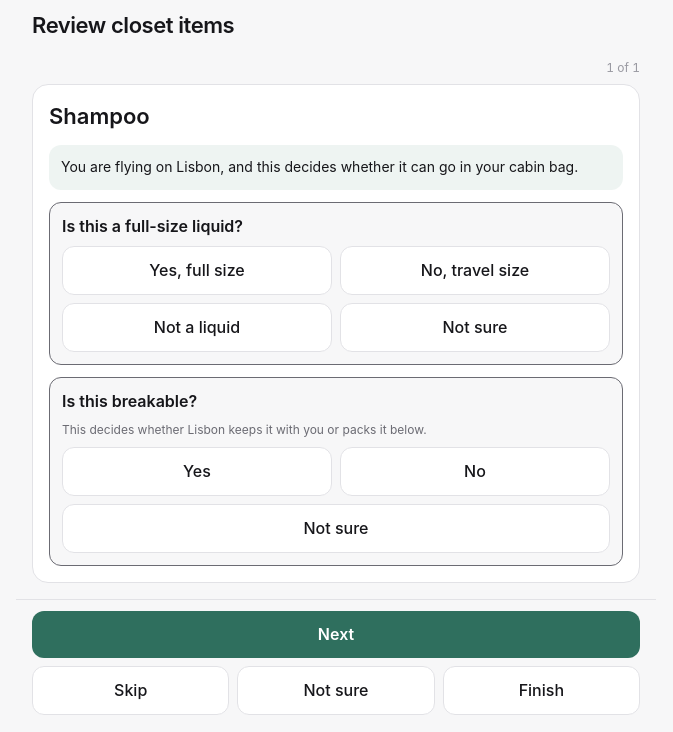
it: answering a bag question › takes the answered question off the card without waiting for the write
Expected: the heading "Shampoo" is shown, [49,103,150,129]
Click the button with aria-label "Yes, full size — Is this a full-size liquid?" at (197, 270), box [62,246,332,295]
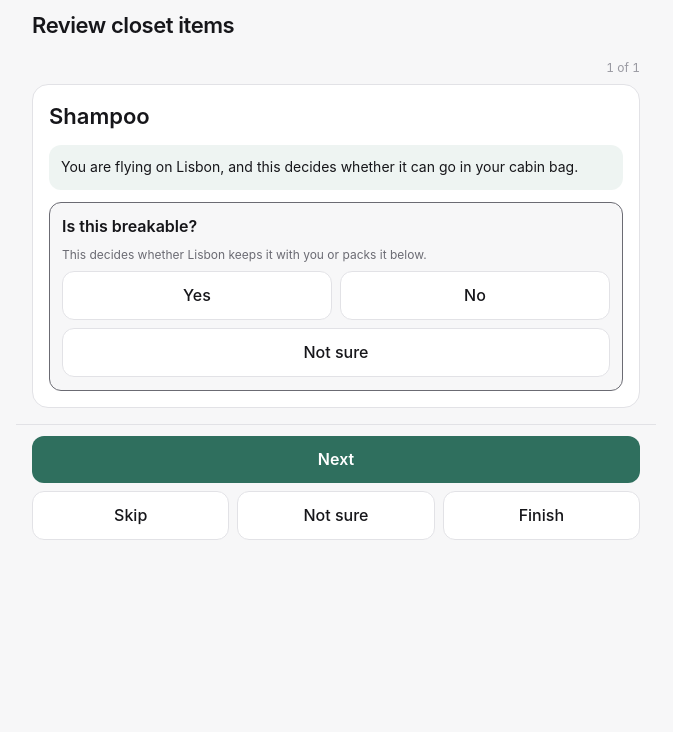
Expected: the heading "Is this breakable?" is shown, [62,216,197,236]
Expected: the heading "Is this a full-size liquid?" is gone
